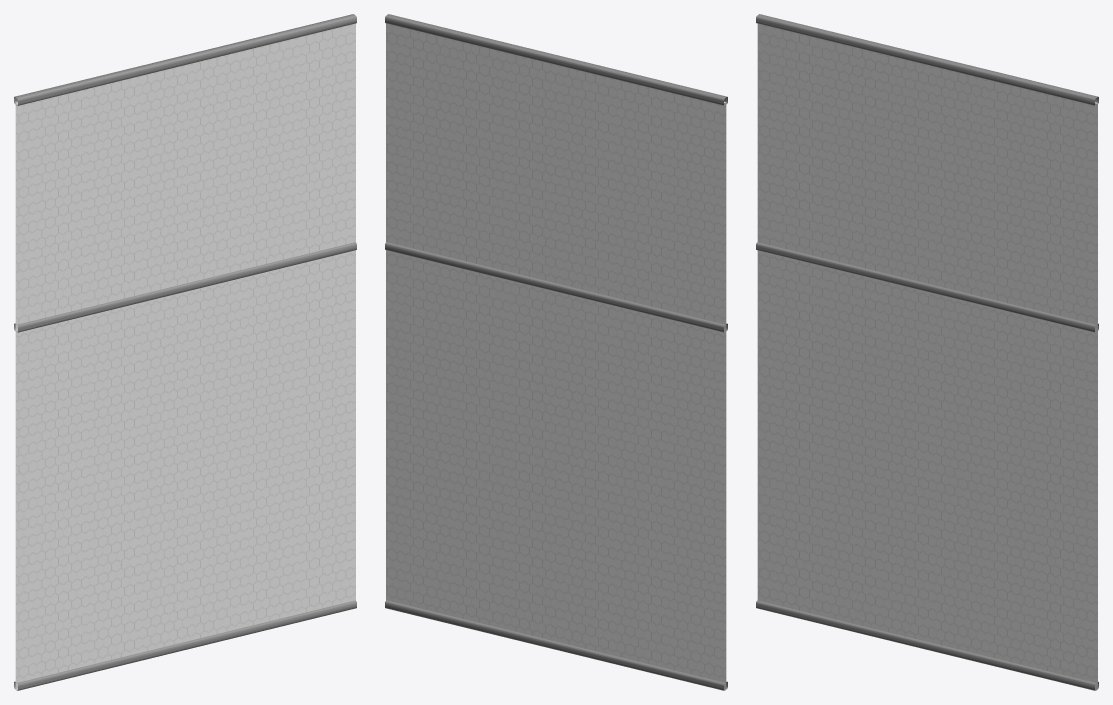
Rendered from FenceMetal01_4.FBX.
3 renders of one model, left to right at view 1: azimuth 30°, elevation 25°; view 2: azimuth 150°, elevation 25°; view 3: azimuth 330°, elevation 25°, orthographic.
Visible parts, largest first — view 1: FenceMetal01; view 2: FenceMetal01; view 3: FenceMetal01.
Boxes of the visible parts, bbox=[...] form: FenceMetal01: bbox=[14, 14, 356, 690]; FenceMetal01: bbox=[385, 14, 727, 690]; FenceMetal01: bbox=[756, 14, 1098, 690].
Size of the model in its own units: 48.18 by 80.28 by 0.9683.
